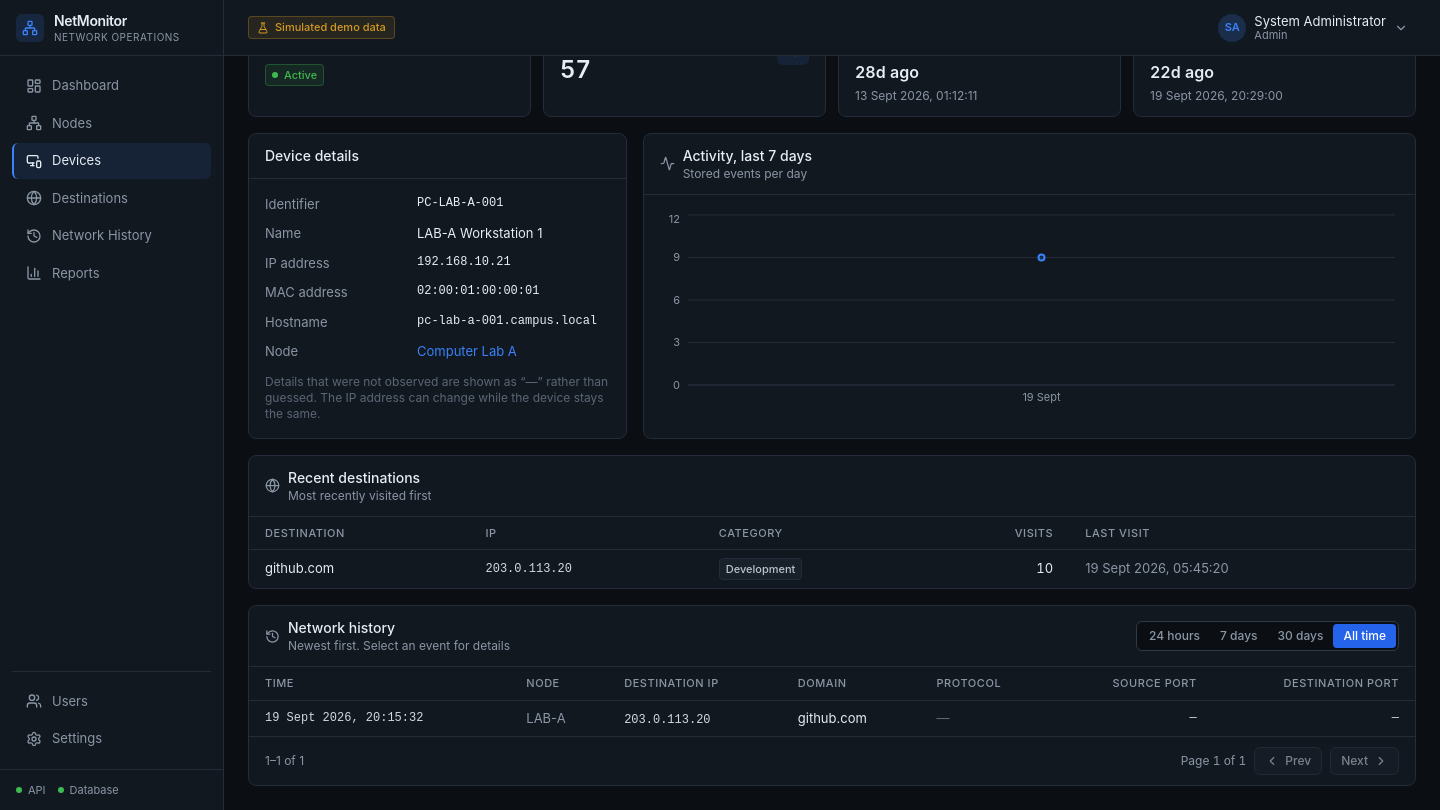
Scenario: DeviceDetailPage › opens the event panel from the history
(page scrolled)
Click the row "19 Sept 2026, 20:15:32 LAB-A 203.0.113.20 github.com — — —". click: coordinates (832, 718)
box: x1=249 y1=700 x2=1415 y2=736
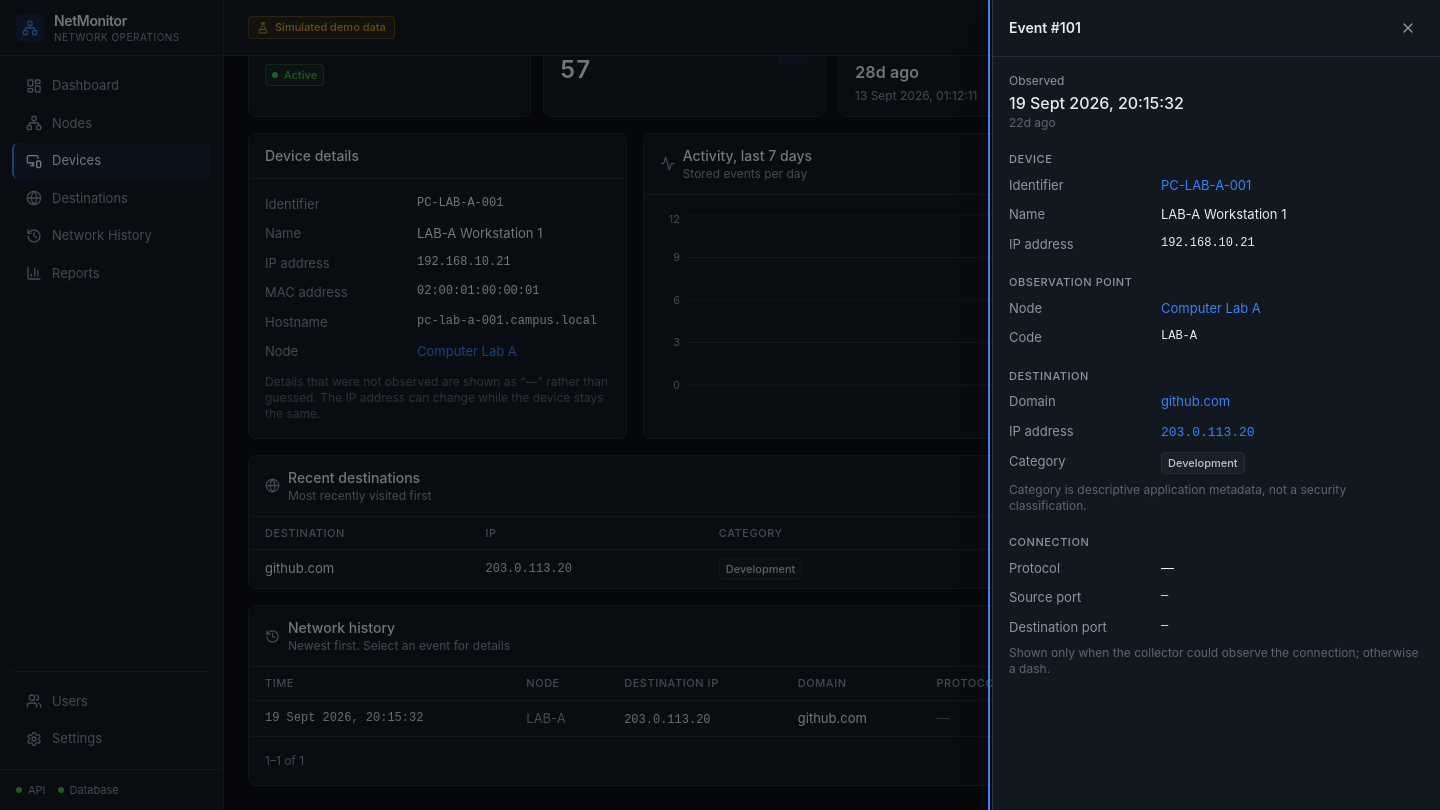
Expected: the dialog "Event #101" is shown, x1=992 y1=0 x2=1439 y2=809
